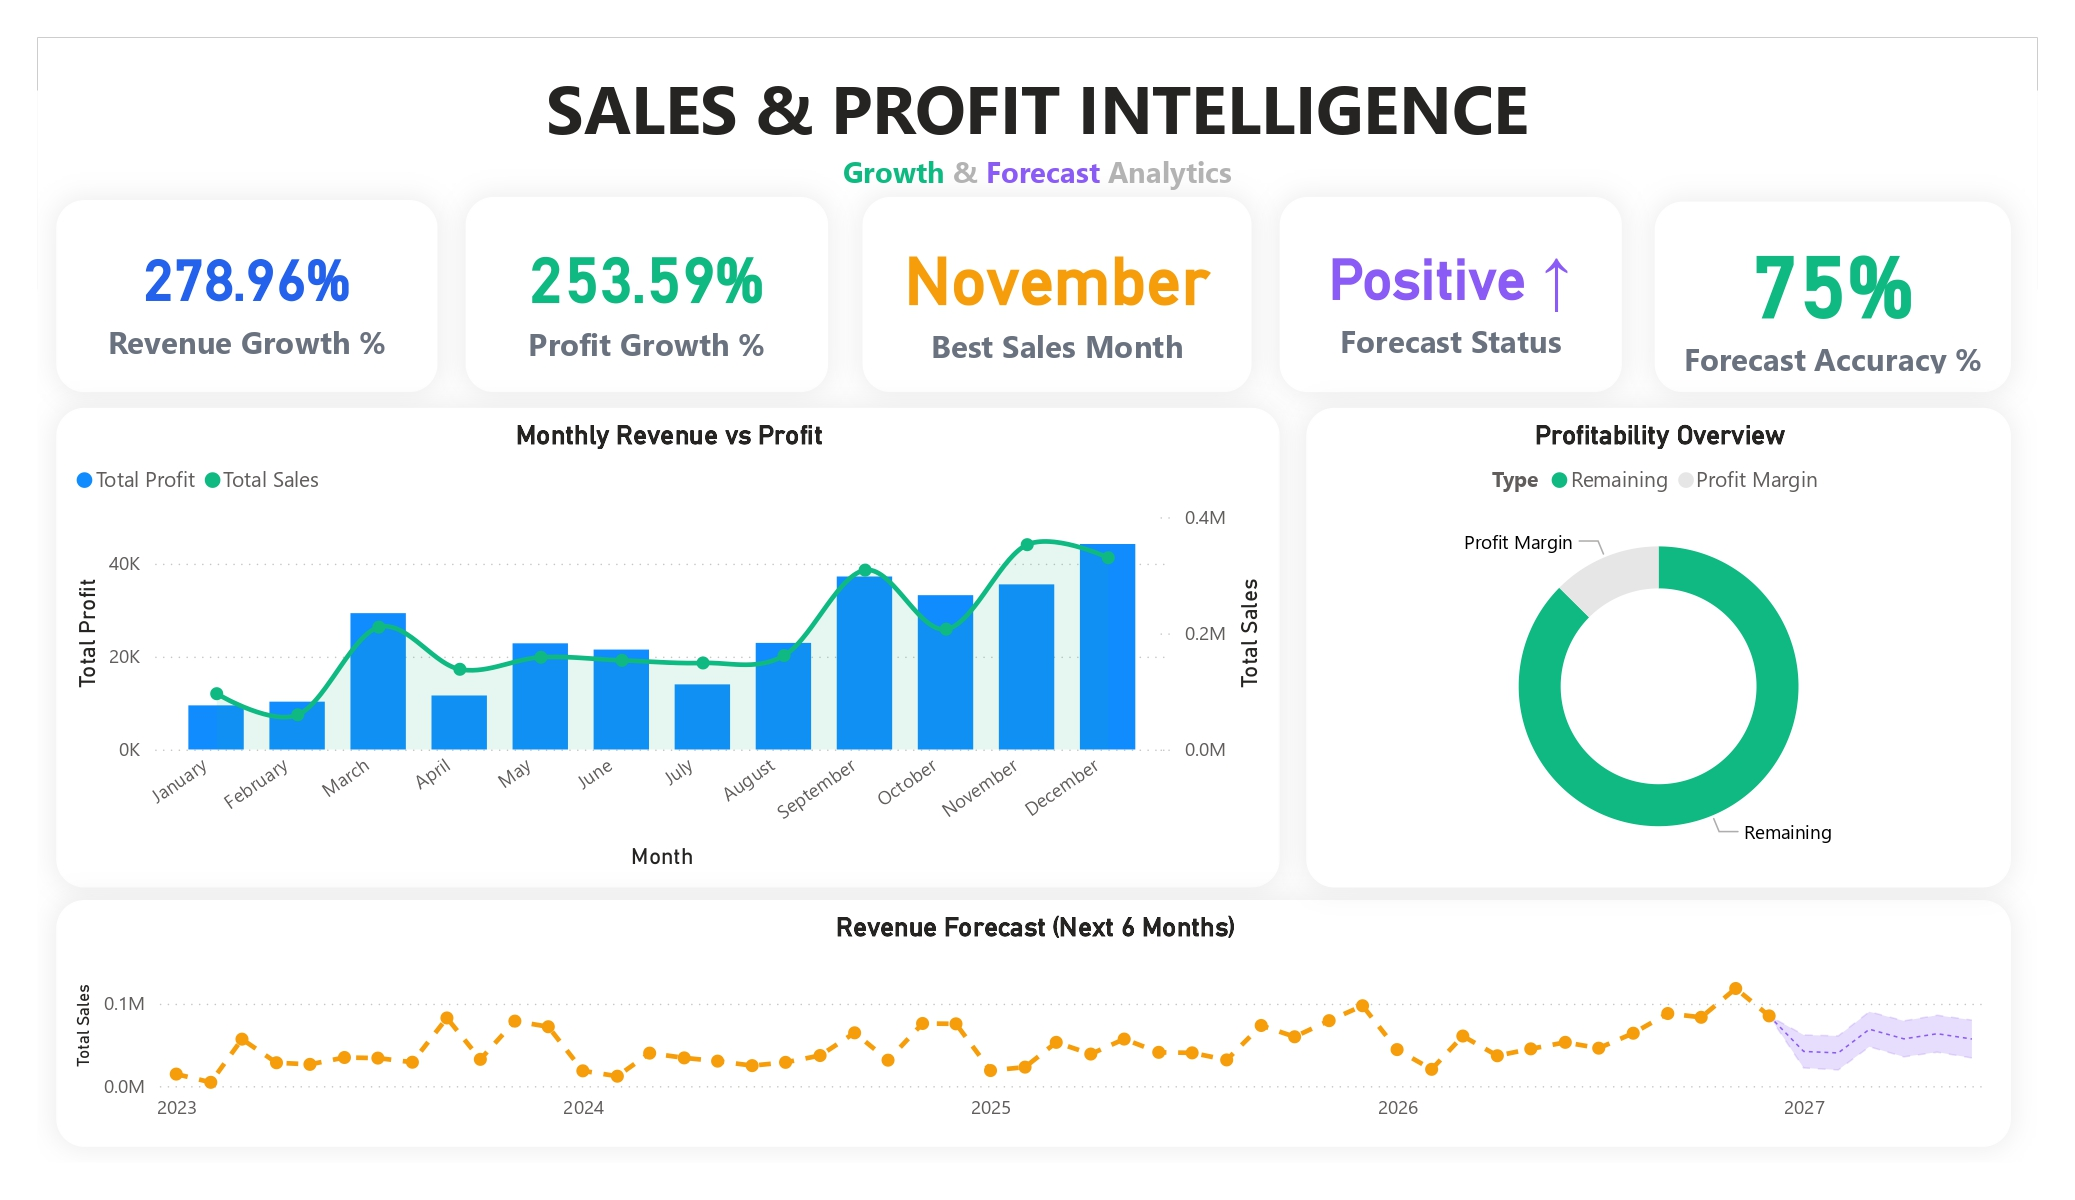

Layout of this report page (visuals, bound fields, positions):
{"tool":"powerbi","page":{"name":"Growth & Forecast","canvas":[1280,720],"ordinal":2},"visuals":[{"type":"card","fields":{"Values":["Sheet1.Revenue Growth %"]},"box":[12.3,103.7,243.2,123.5],"z":0},{"type":"card","fields":{"Values":["Sheet1.Profit Growth %"]},"box":[274.1,102.5,232.1,124.7],"z":1000},{"type":"card","fields":{"Values":["Sheet1.Best Sales Month"]},"box":[528.4,102.5,248.1,124.7],"z":2000},{"type":"lineClusteredColumnComboChart","title":"Monthly Revenue vs Profit","fields":{"Category":["Sheet1.Month"],"Y":["Sheet1.Total Profit"],"Y2":["Sheet1.Total Sales"]},"box":[12.3,237,782.7,307.4],"z":3000},{"type":"textbox","box":[0,10.9,1280.2,92.2],"z":4000},{"type":"card","fields":{"Values":["Sheet1.Forecast Status"]},"box":[795.1,102.5,218.5,124.7],"z":5000},{"type":"lineChart","title":"Revenue Forecast (Next 6 Months)","fields":{"Y":["Sheet1.Total Sales"],"Category":["Sheet1.Order Date.Variation.Date Hierarchy.Year","Sheet1.Order Date.Variation.Date Hierarchy.Month"]},"box":[12.3,551.9,1250.6,158],"z":6000},{"type":"card","fields":{"Values":["Sheet1.Forecast Accuracy %"]},"box":[1034.6,104.9,228.4,122.2],"z":7000},{"type":"donutChart","title":"Profitability Overview","fields":{"Category":["Margin Breakdown.Type"],"Y":["Margin Breakdown.Donut Value"]},"box":[812.3,237,450.6,307.4],"z":9000}]}

Visuals, with their boxes on the page's 1280x720 design canvas (x1, y1, x2, y2). These are canvas units, not pixel positions in the 2075x1200 screenshot, which may show the page scaled, cropped or inside an application window:
card - Sheet1.Revenue Growth %: select_region(12, 104, 256, 227)
card - Sheet1.Profit Growth %: select_region(274, 102, 506, 227)
card - Sheet1.Best Sales Month: select_region(528, 102, 776, 227)
"Monthly Revenue vs Profit" lineClusteredColumnComboChart: select_region(12, 237, 795, 544)
textbox: select_region(0, 11, 1280, 103)
card - Sheet1.Forecast Status: select_region(795, 102, 1014, 227)
"Revenue Forecast (Next 6 Months)" lineChart: select_region(12, 552, 1263, 710)
card - Sheet1.Forecast Accuracy %: select_region(1035, 105, 1263, 227)
"Profitability Overview" donutChart: select_region(812, 237, 1263, 544)
